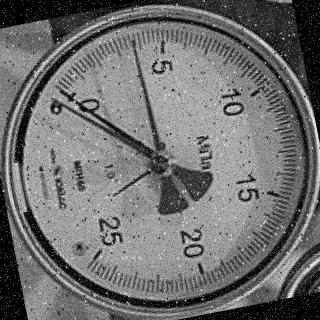gauge: (0, 0, 320, 320), (35, 77, 83, 116), (76, 238, 119, 280), (143, 148, 180, 182), (106, 185, 124, 205), (128, 34, 141, 52), (48, 92, 62, 108), (54, 80, 66, 98)
